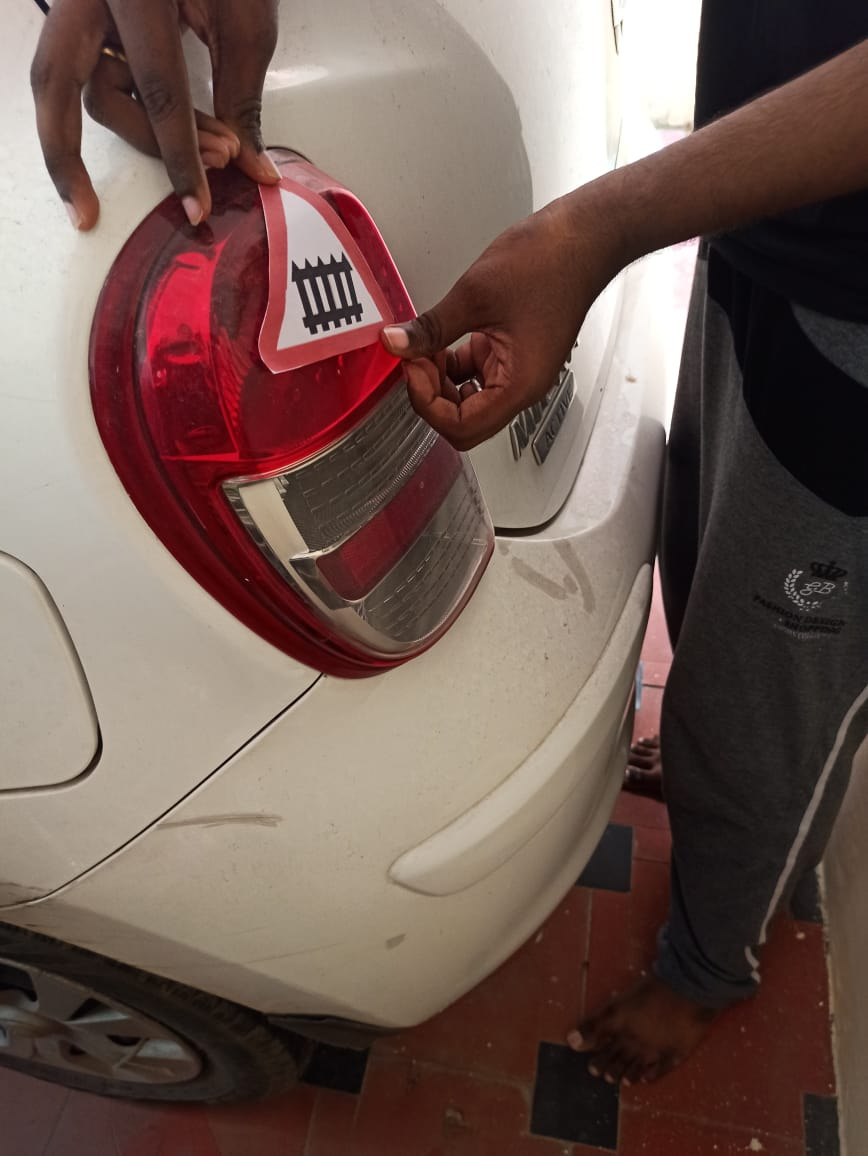GUARDED LEVEL CROSSING: (239, 158, 420, 377)
